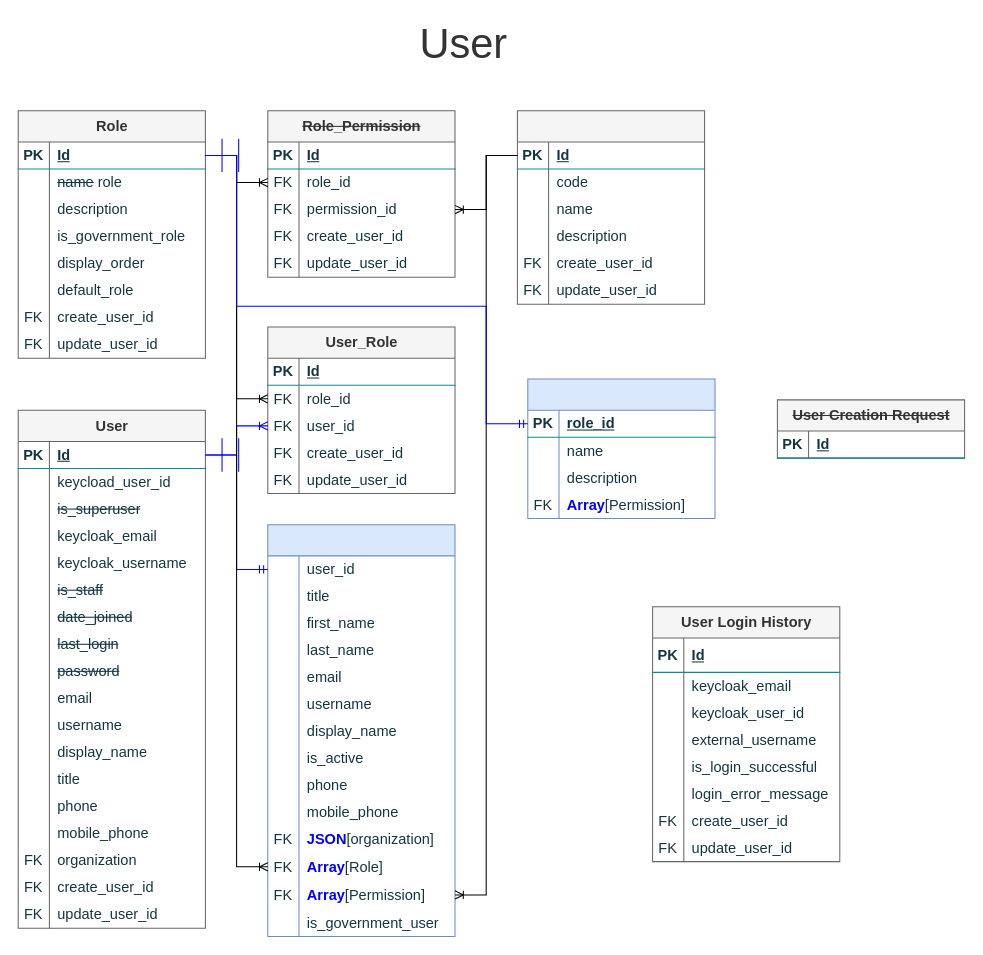
This 983x955 diagram has some shape labels left out. The box of each missing label's shape, as (x1, y1, x2, y2) in pixels:
Permission: (516, 110, 705, 304)
Role_Permission [ View ]: (527, 378, 715, 518)
User_Permission [ View ]: (267, 524, 455, 937)
